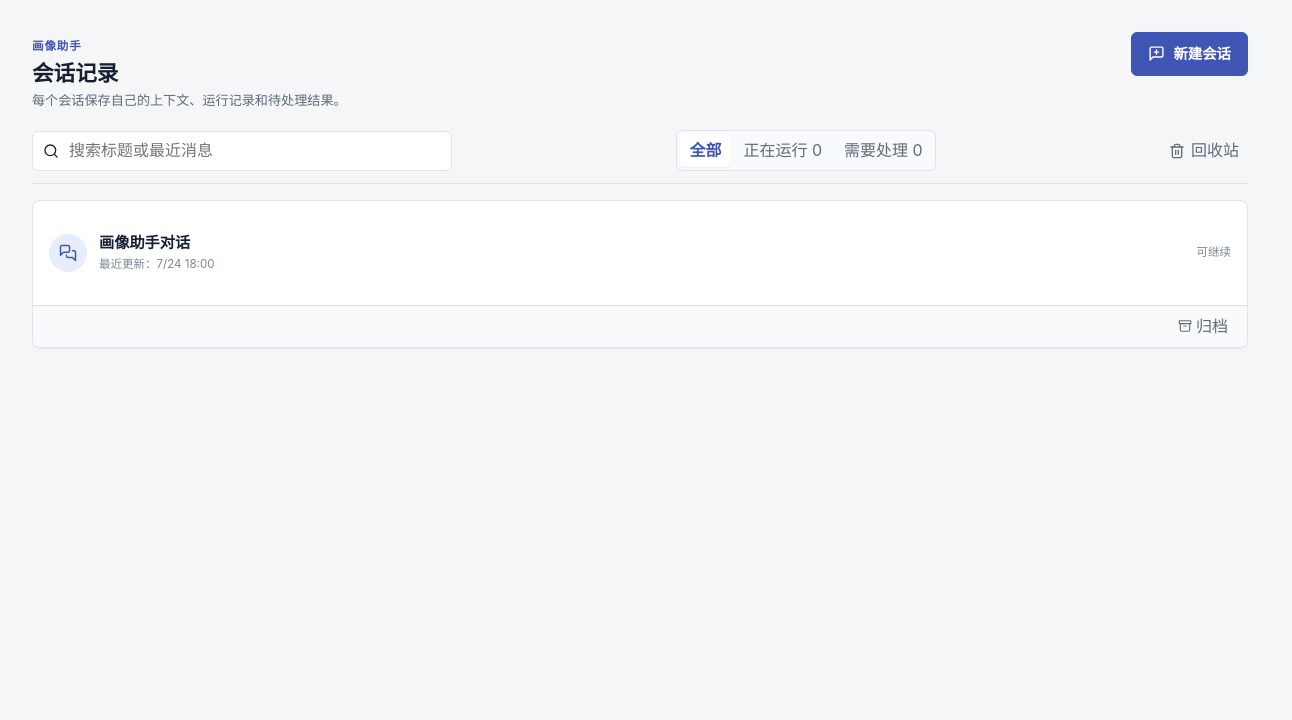
Test: ProfileAgentWorkspace › shows real token and context usage in the collapsed technical details
The image size is (1292, 720).
Click the button "画像助手对话 最近更新：7/24 18:00 可继续" at (68, 253), box left=33, top=201, right=1247, bottom=305
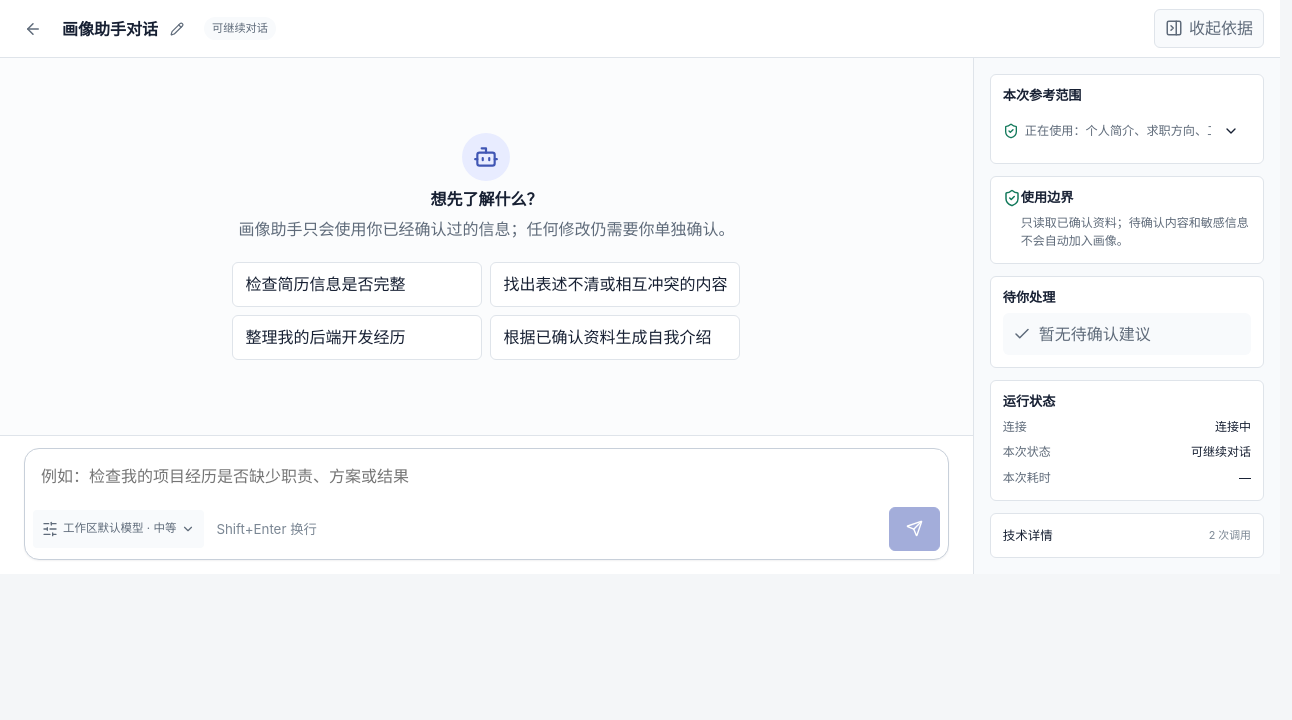
Now the text "2 次调用" is shown, box left=1209, top=527, right=1251, bottom=544
